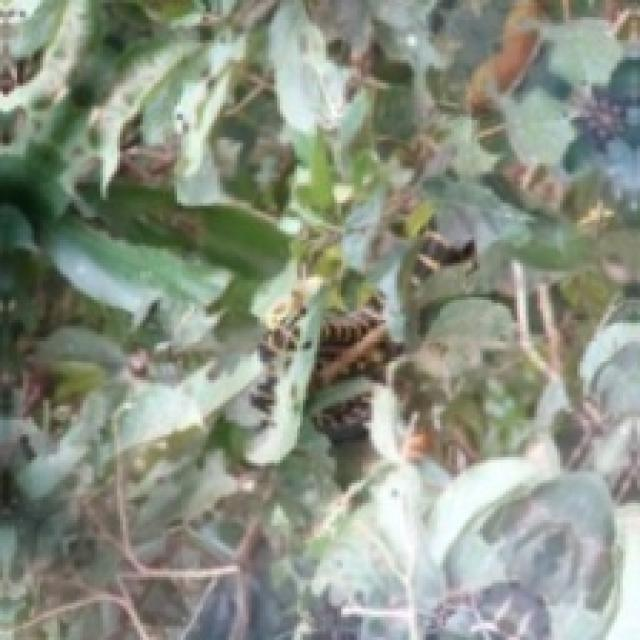mangrove cat snake: (226, 277, 400, 463)
